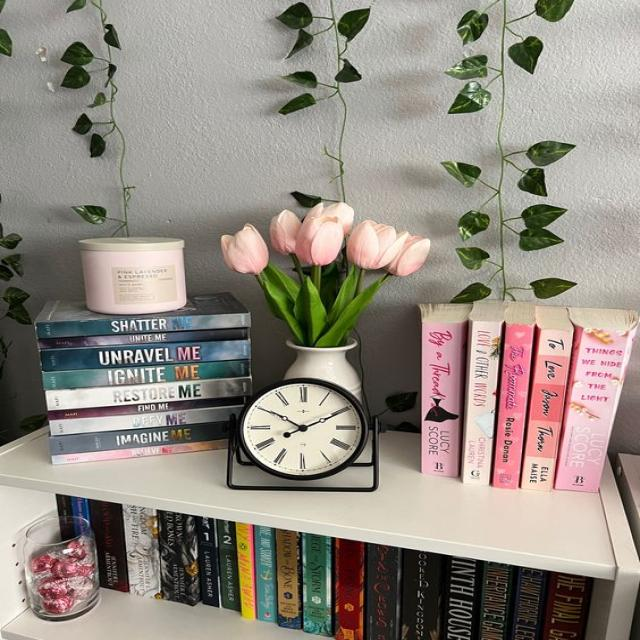book: (554, 326, 631, 493), (522, 328, 576, 491), (46, 376, 251, 409), (39, 340, 250, 371), (463, 321, 503, 484), (493, 322, 532, 489), (49, 420, 228, 454), (43, 360, 251, 389), (49, 406, 243, 436), (423, 322, 457, 477), (36, 314, 250, 338), (38, 328, 249, 350), (52, 440, 227, 465), (48, 397, 246, 419), (87, 500, 128, 591), (402, 551, 443, 639), (365, 544, 402, 639), (157, 512, 195, 601), (123, 505, 159, 597), (542, 573, 590, 639), (440, 557, 478, 639), (302, 533, 331, 636), (478, 563, 517, 639), (335, 539, 364, 639), (510, 569, 546, 639), (277, 529, 300, 629), (254, 526, 275, 622), (196, 517, 218, 606), (236, 523, 256, 620), (217, 520, 238, 611)
candle: (81, 237, 184, 314)
flowers: (221, 203, 429, 400)
